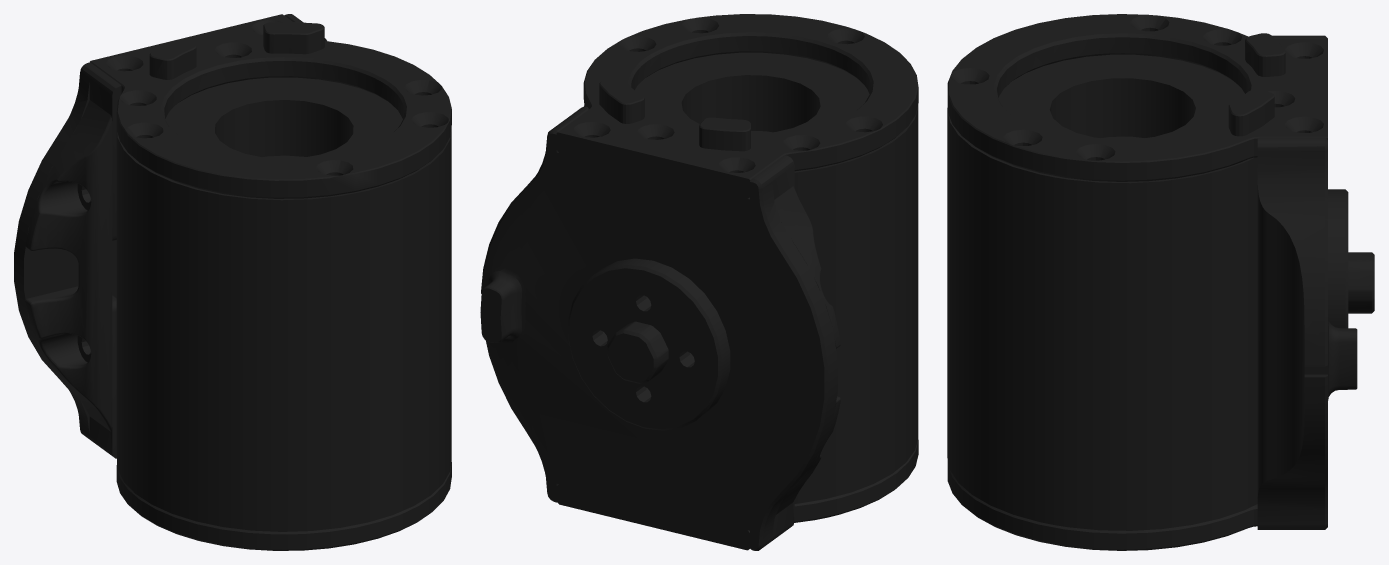
The picture shows the model from 3 angles, left to right: view 1: azimuth 30°, elevation 25°; view 2: azimuth 150°, elevation 25°; view 3: azimuth 270°, elevation 25°; orthographic projection. The views are drawn at different scales.
Size of the model in its own units: 0.0719 by 0.0775 by 0.073.
Materials: 1 (1 with a texture image).
